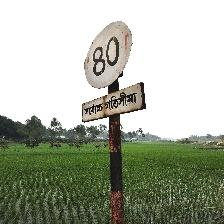Speed-limit: (81, 19, 144, 123)
